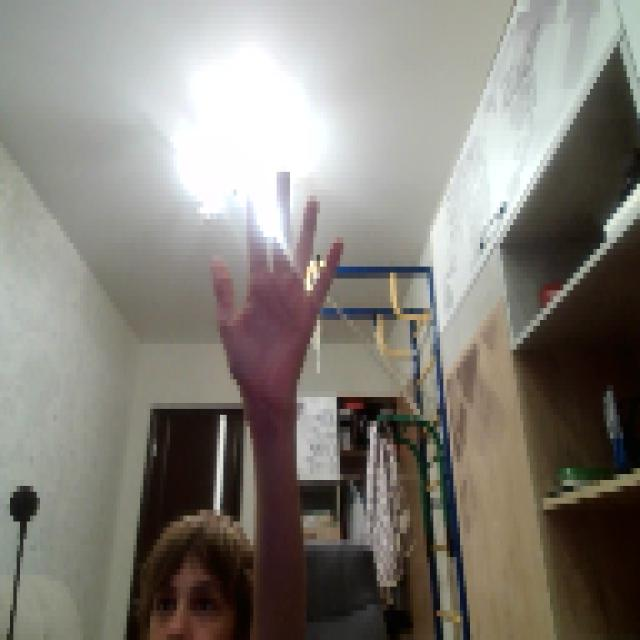hand: (207, 154, 340, 403)
